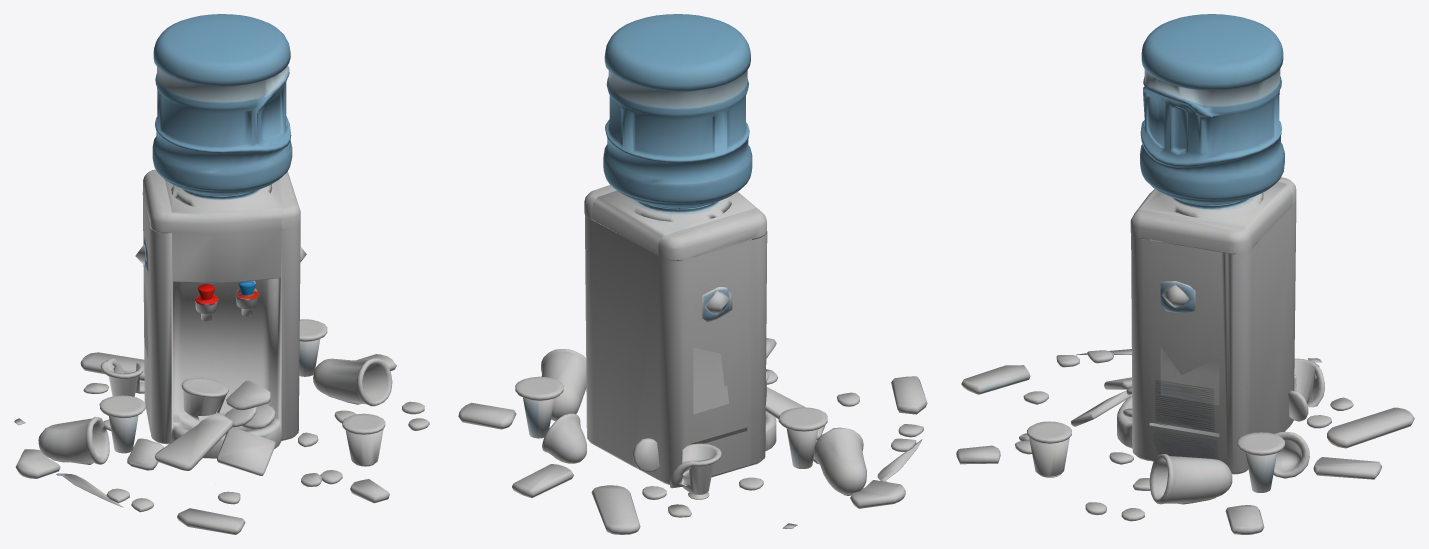
File: broken_water_cooler_with_scattered_cups_aa26c38a_v3.glb
3 views of the same model, side by side, from view 1: azimuth 30°, elevation 25°; view 2: azimuth 150°, elevation 25°; view 3: azimuth 270°, elevation 25° (orthographic). The views are drawn at different scales.
Parts seen in each view (by area): view 1: material; view 2: material; view 3: material.
Boxes of the visible parts, <box> form: material: <box>14,14,429,534</box>; material: <box>458,14,927,534</box>; material: <box>956,14,1414,534</box>.
Bounding box in the file's own units: 1.9 × 1.79 × 1.84.
1 material, 1 textured.
